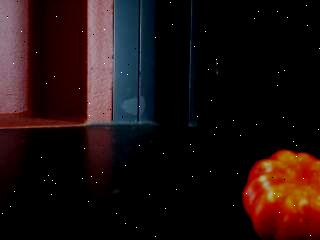Pumpkin: (241, 148, 320, 240)
